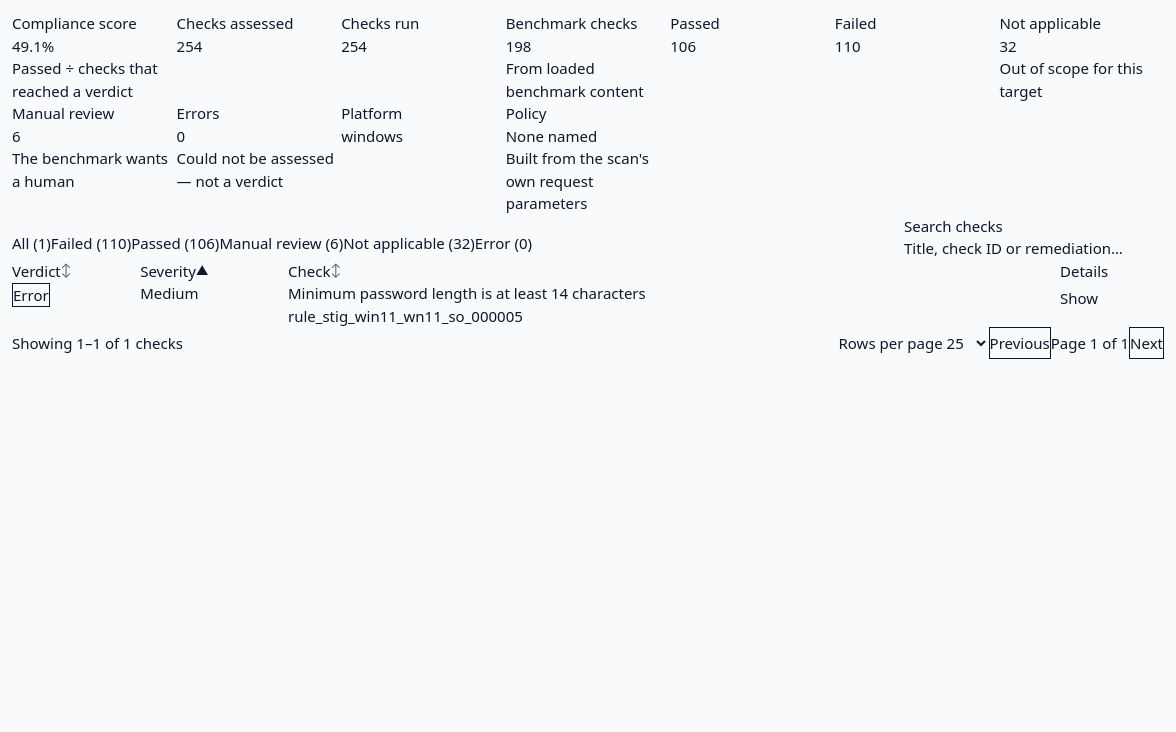
ConfigAuditSection — detail and evidence › renders a check that could not run with its reason
Click the button "Show" at {"x": 1079, "y": 298}, box [1060, 282, 1098, 314]
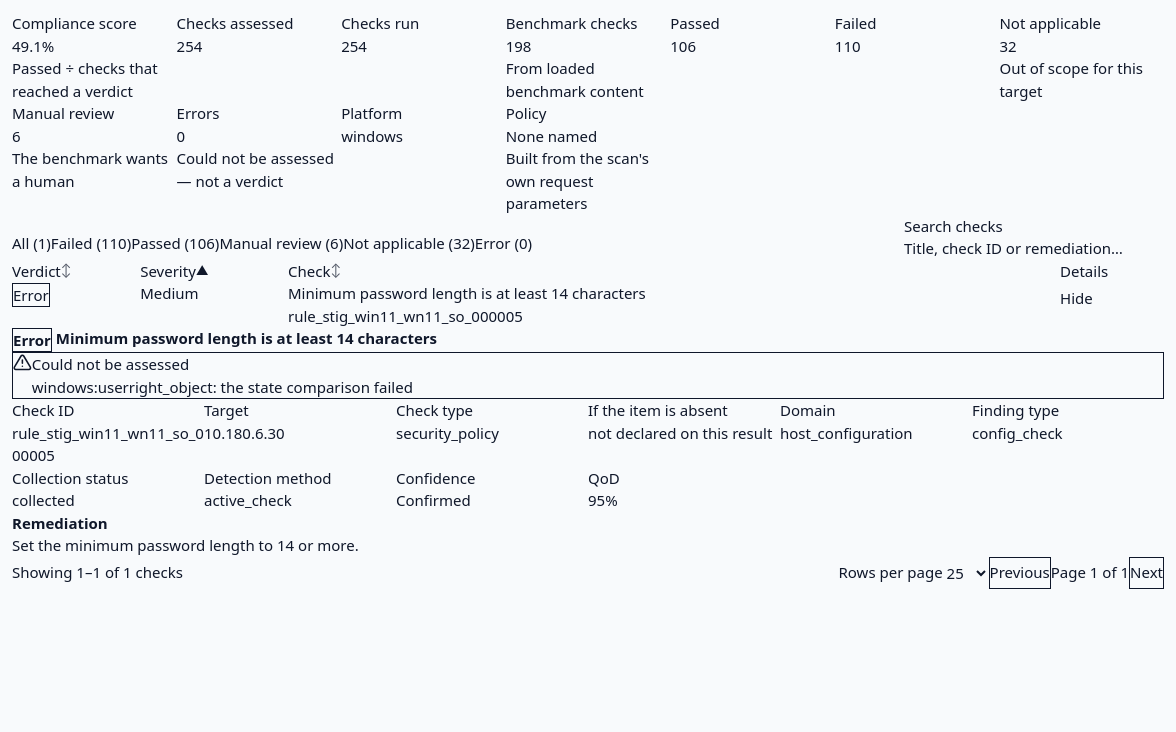
Check: the text "Could not be assessed" is shown, box [32, 354, 189, 374]
Check: the text "windows:userright_object: the state comparison failed" is shown, box [32, 377, 413, 397]
